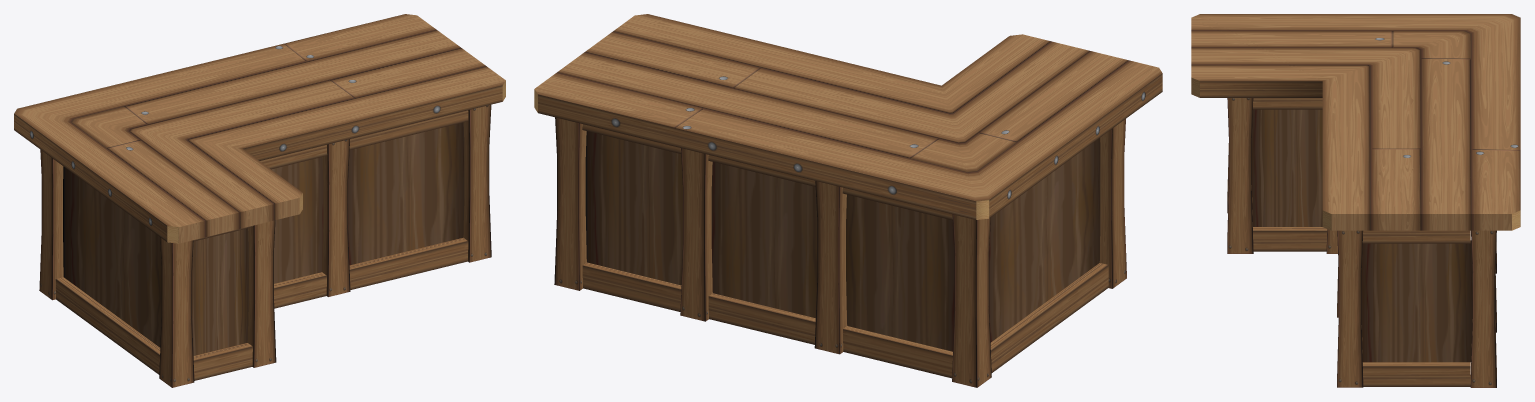
The model's file is Bar_01.FBX.
3 views of the same model, side by side, from view 1: azimuth 30°, elevation 25°; view 2: azimuth 150°, elevation 25°; view 3: azimuth 270°, elevation 25° (orthographic). The views are drawn at different scales.
Visible parts, largest first — view 1: Bar_01; view 2: Bar_01; view 3: Bar_01.
Boxes of the visible parts, x1,y1,x2,y2 form: Bar_01: (14,14,505,387); Bar_01: (534,14,1162,387); Bar_01: (1191,14,1520,387).
Bounding box in the file's own units: 2.84 × 1.19 × 1.98.
